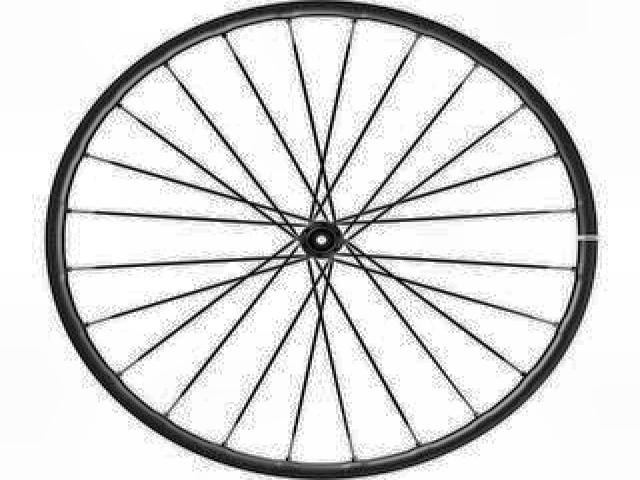wheel: (43, 0, 602, 480)
